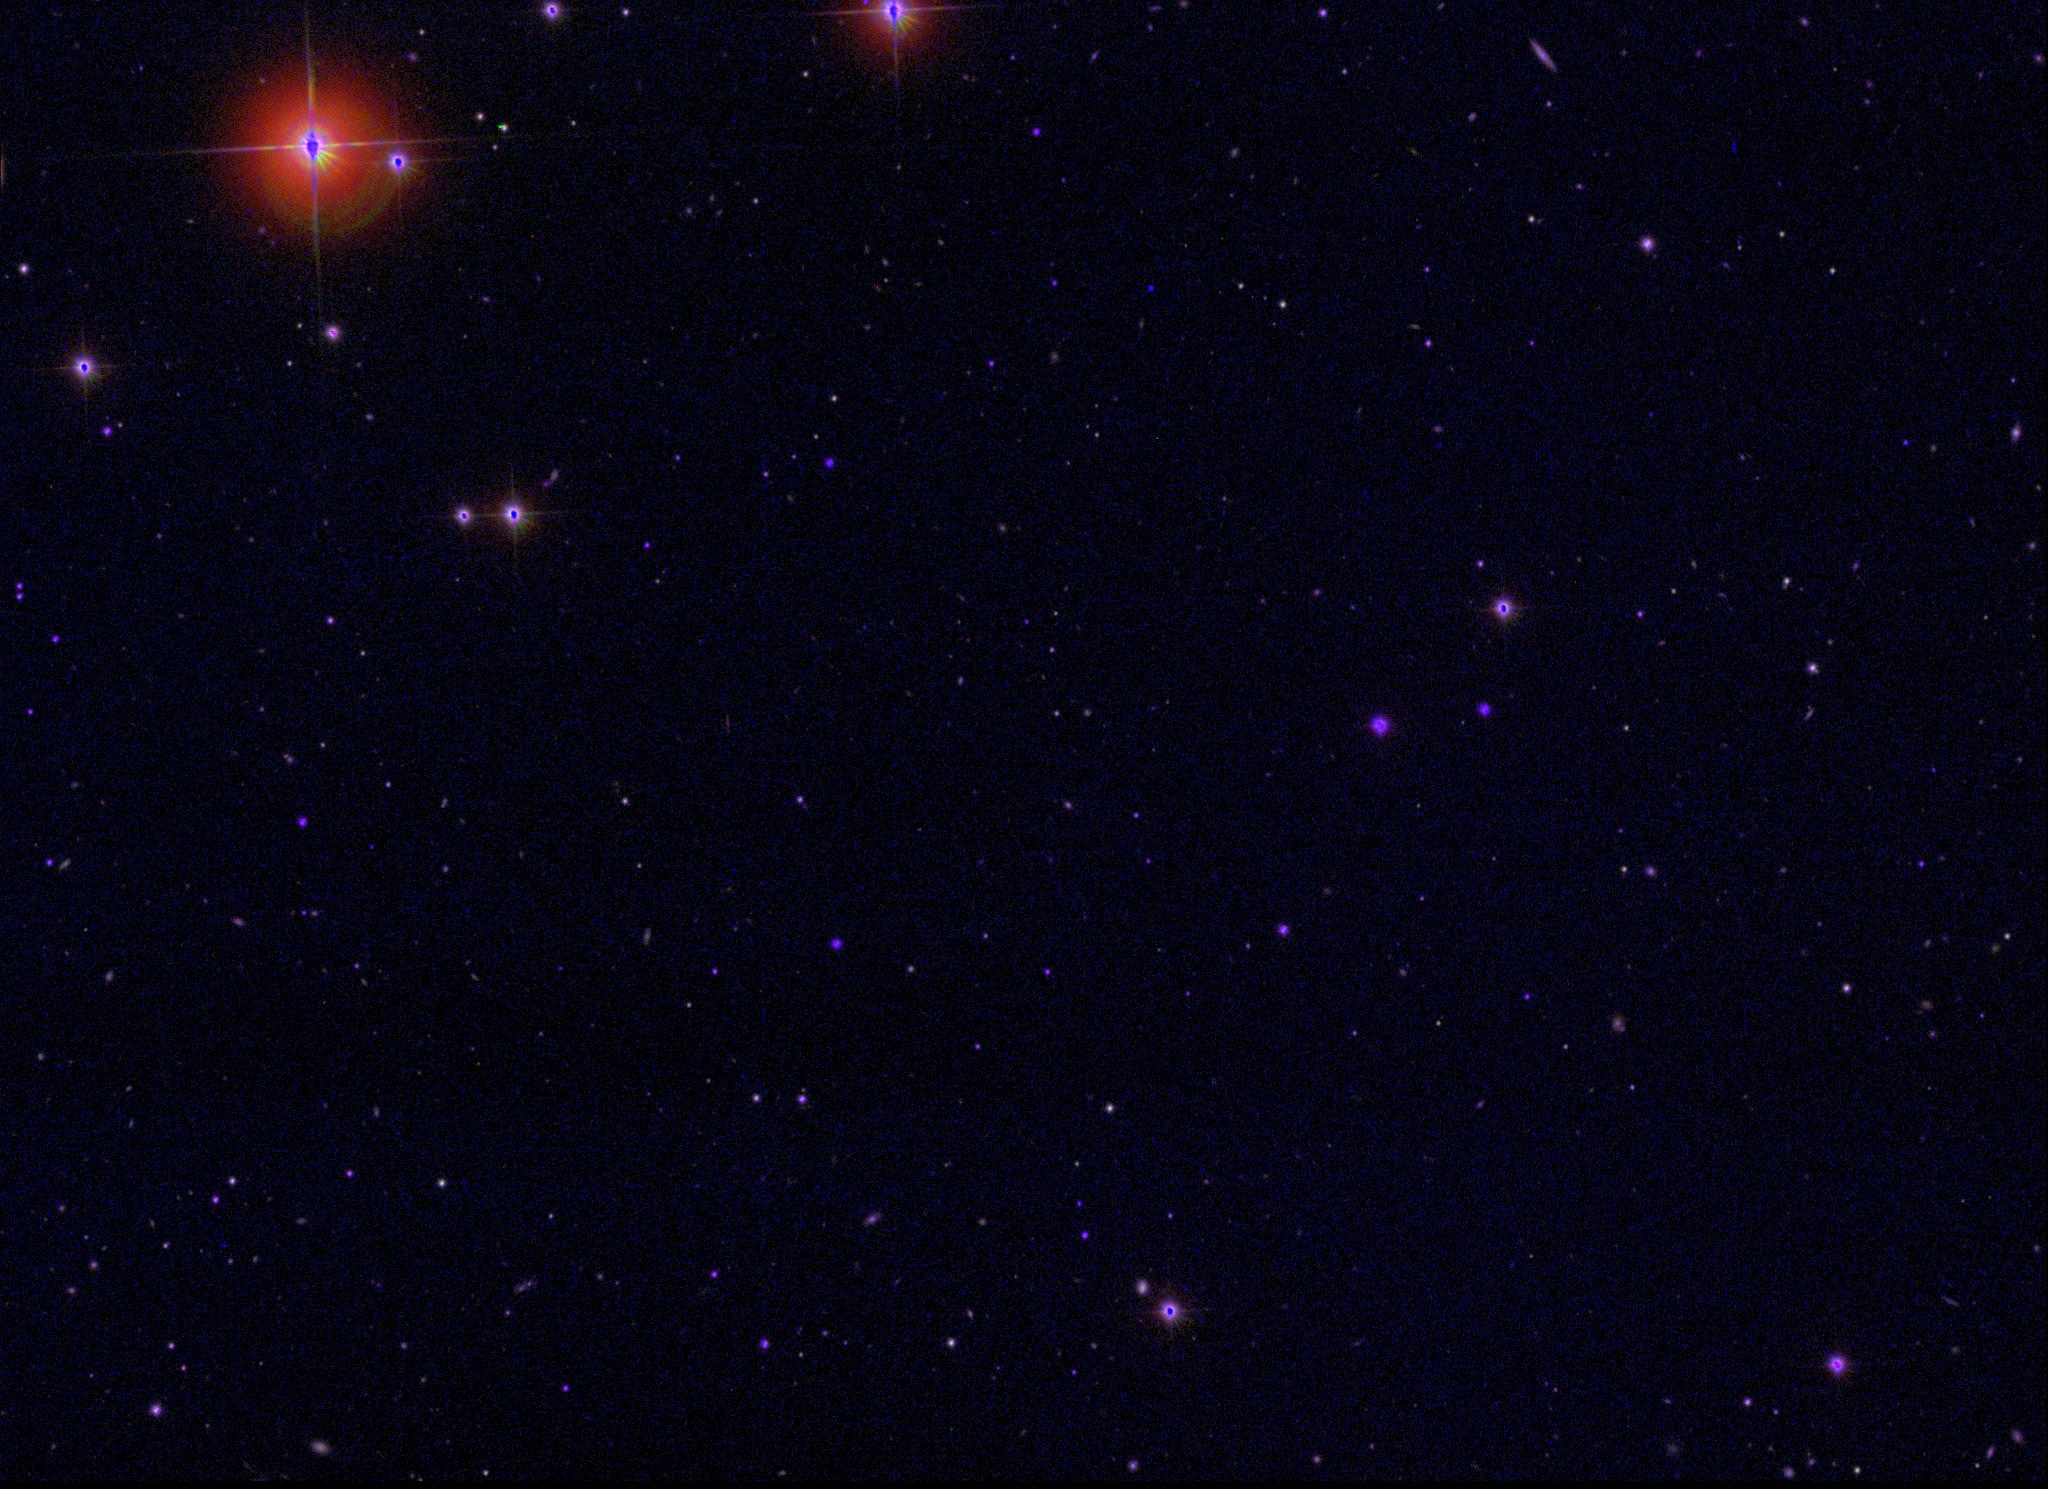L: (1143, 283, 1158, 297)
